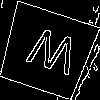W: (22, 26, 81, 85)
